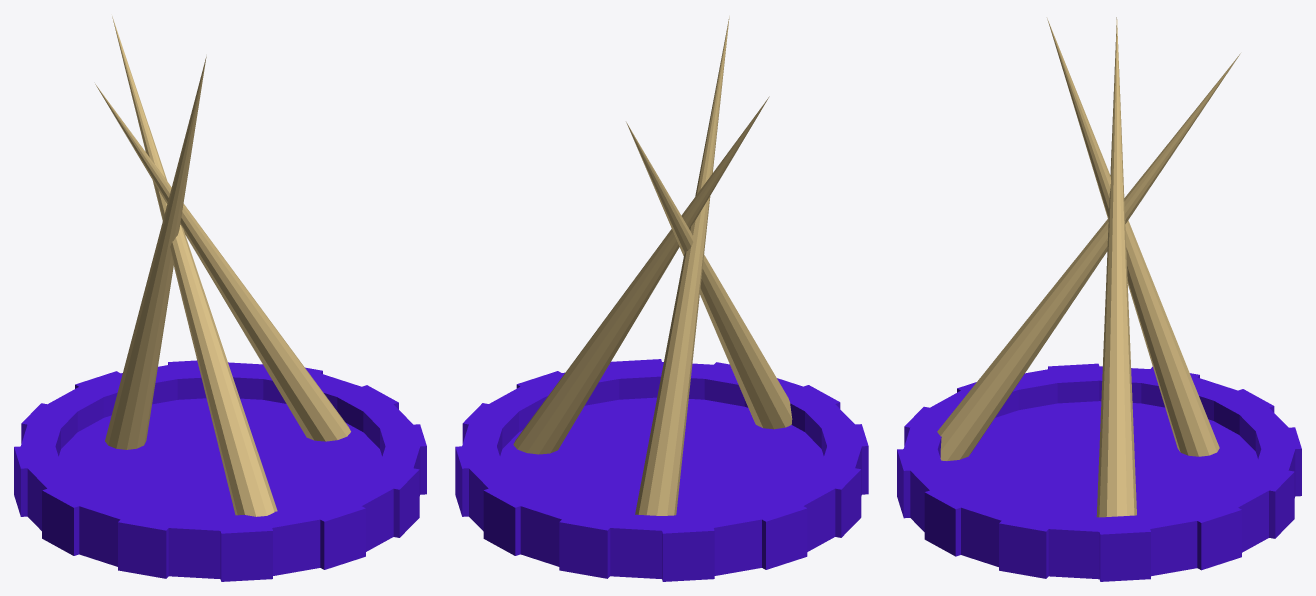
File: SM_kurdankule.fbx
The picture shows the model from 3 angles, left to right: view 1: azimuth 30°, elevation 25°; view 2: azimuth 150°, elevation 25°; view 3: azimuth 270°, elevation 25°; orthographic projection. The views are drawn at different scales.
Parts seen in each view (by area): view 1: Cylinder.006; view 2: Cylinder.006; view 3: Cylinder.006.
Boxes of the visible parts, x1,y1,x2,y2 form: Cylinder.006: (14,16,426,581); Cylinder.006: (455,16,868,581); Cylinder.006: (897,17,1301,581).
Bounding box in the file's own units: 62 × 81.54 × 62.
